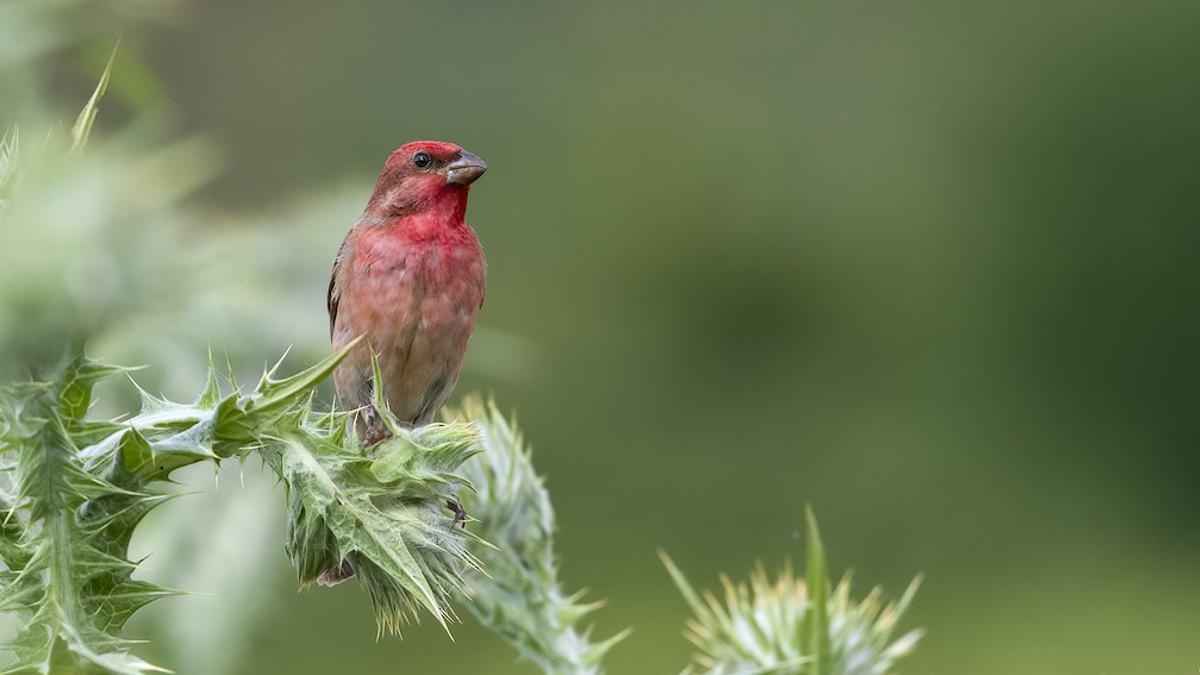rosefinch: (311, 102, 510, 560)
